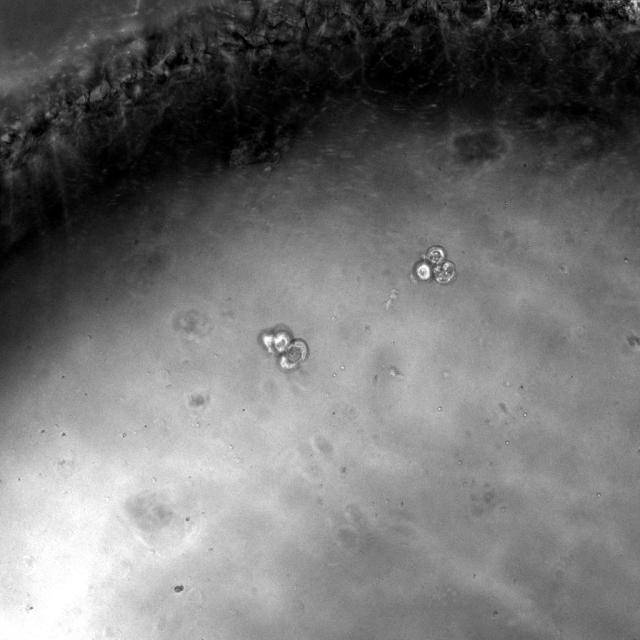organoid: (259, 325, 309, 372), (412, 245, 457, 284)
